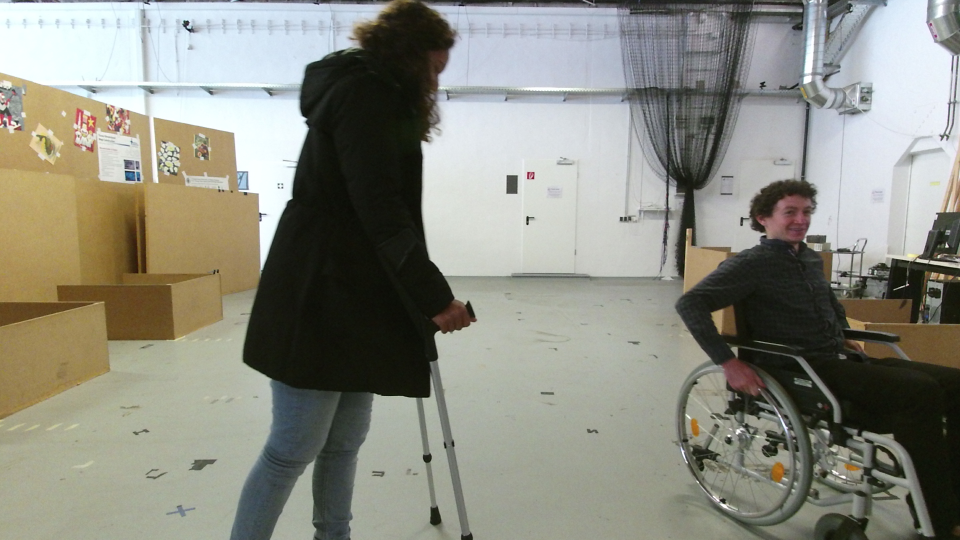crutches: (227, 1, 478, 540)
wheelchair: (667, 173, 960, 540)
